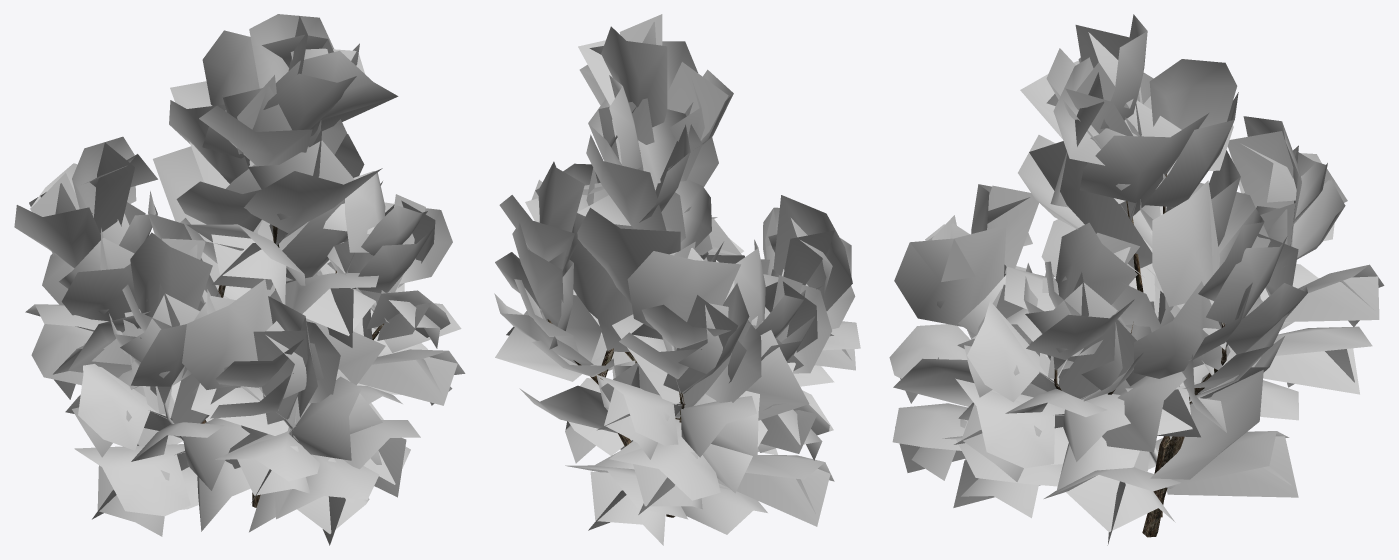
Rendered from Big Bush.FBX.
3 views of the same model, side by side, from view 1: azimuth 30°, elevation 25°; view 2: azimuth 150°, elevation 25°; view 3: azimuth 270°, elevation 25° (orthographic). The views are drawn at different scales.
Parts seen in each view (by area): view 1: Big Bush; view 2: Big Bush; view 3: Big Bush.
Part boxes in pixels (box(x1,y1,x2,y2)): Big Bush: box(14, 14, 465, 545); Big Bush: box(494, 14, 860, 545); Big Bush: box(889, 14, 1384, 545).
Bounding box in the file's own units: 15.07 × 20.8 × 18.
